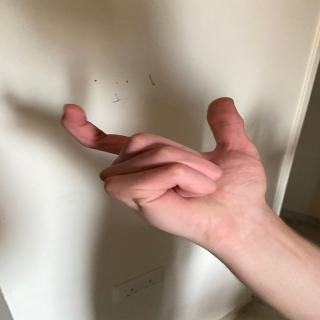NOON: (50, 85, 282, 235)
